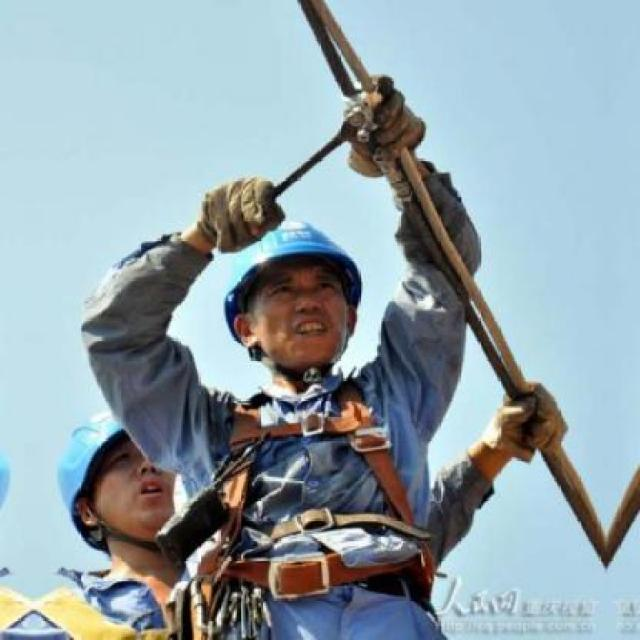helmet: (204, 196, 381, 389), (43, 386, 200, 572)
